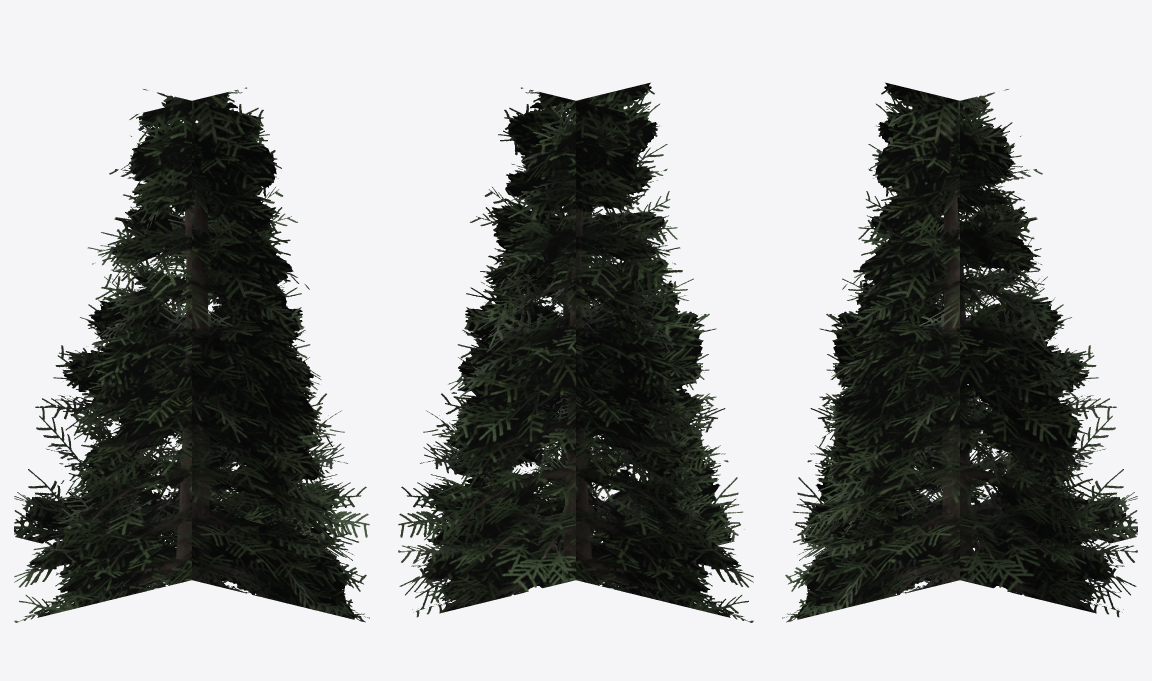
File: smrk_stary_daleko.glb
The picture shows the model from 3 angles, left to right: view 1: azimuth 30°, elevation 25°; view 2: azimuth 150°, elevation 25°; view 3: azimuth 270°, elevation 25°; orthographic projection.
Visible parts, largest first — view 1: smrk_stary_daleko; view 2: smrk_stary_daleko; view 3: smrk_stary_daleko.
Part boxes in pixels (<box>): smrk_stary_daleko: <box>14,87,369,622</box>; smrk_stary_daleko: <box>398,82,753,622</box>; smrk_stary_daleko: <box>782,82,1137,622</box>.
Size of the model in its own units: 12.16 by 15.66 by 10.53.
Materials: 3 (3 with a texture image).
